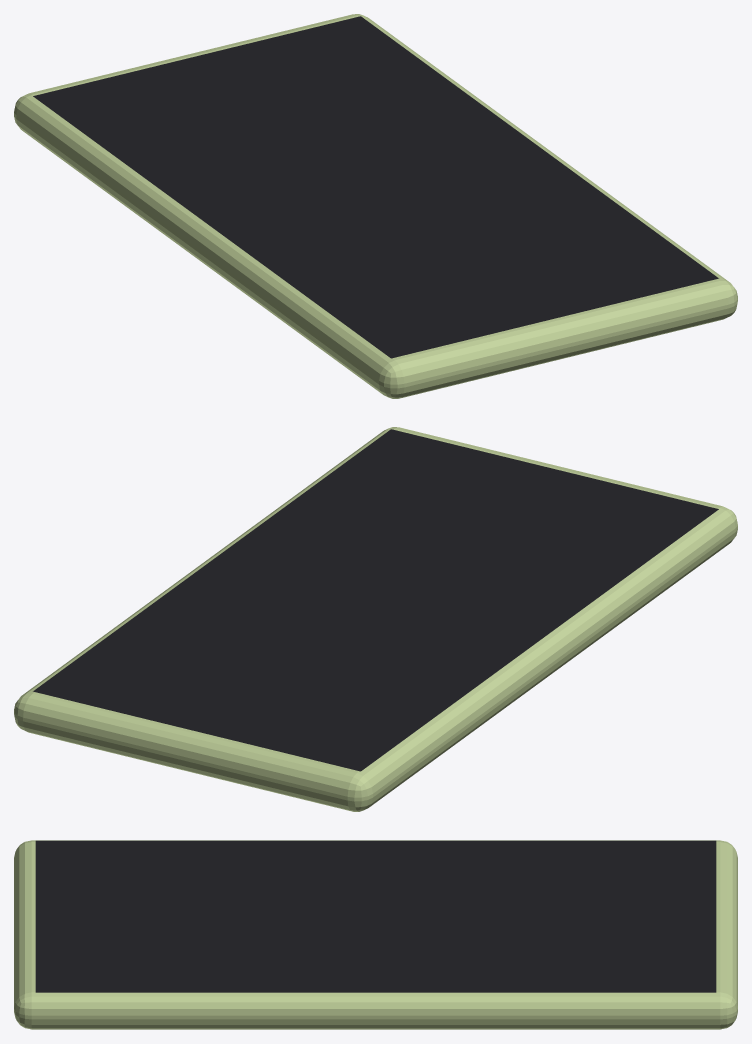
Rendered from Phone_776.glb.
The picture shows the model from 3 angles, top to bottom: view 1: azimuth 30°, elevation 25°; view 2: azimuth 150°, elevation 25°; view 3: azimuth 270°, elevation 25°; orthographic projection. The views are drawn at different scales.
Visible parts, largest first — view 1: Phone_Screen, Phone_Body; view 2: Phone_Screen, Phone_Body; view 3: Phone_Screen, Phone_Body.
Boxes of the visible parts, x1=… form: Phone_Screen: x1=33, y1=16, x2=718, y2=358; Phone_Body: x1=14, y1=14, x2=737, y2=398; Phone_Screen: x1=33, y1=429, x2=718, y2=771; Phone_Body: x1=14, y1=427, x2=737, y2=811; Phone_Screen: x1=35, y1=840, x2=716, y2=992; Phone_Body: x1=14, y1=840, x2=737, y2=1029.
Size of the model in its own units: 0.079 by 0.008 by 0.1463.
